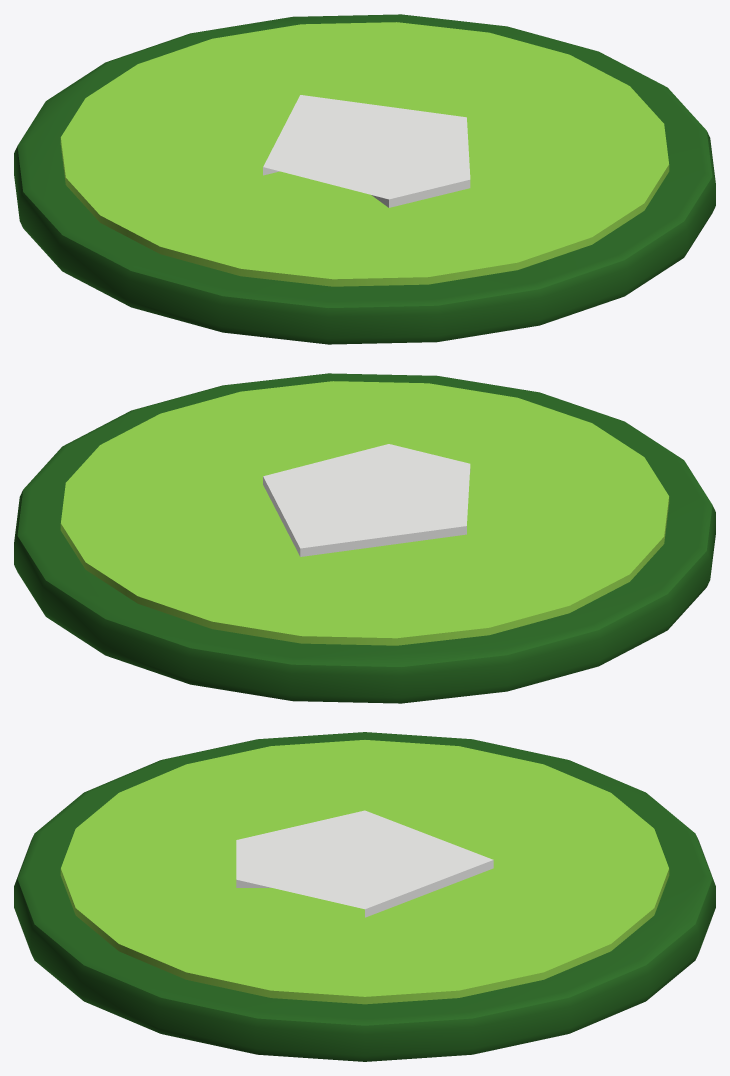
Rendered from UpgradePad.fbx.
3 views of the same model, one above another, from view 1: azimuth 30°, elevation 25°; view 2: azimuth 150°, elevation 25°; view 3: azimuth 270°, elevation 25° (orthographic).
Parts seen in each view (by area): view 1: UpgradePad; view 2: UpgradePad; view 3: UpgradePad.
Boxes of the visible parts, x1=… form: UpgradePad: x1=14, y1=14, x2=715, y2=344; UpgradePad: x1=14, y1=373, x2=715, y2=703; UpgradePad: x1=14, y1=732, x2=715, y2=1061.
Bounding box in the file's own units: 6 × 0.55 × 6.
Materials: 1 (1 with a texture image).
